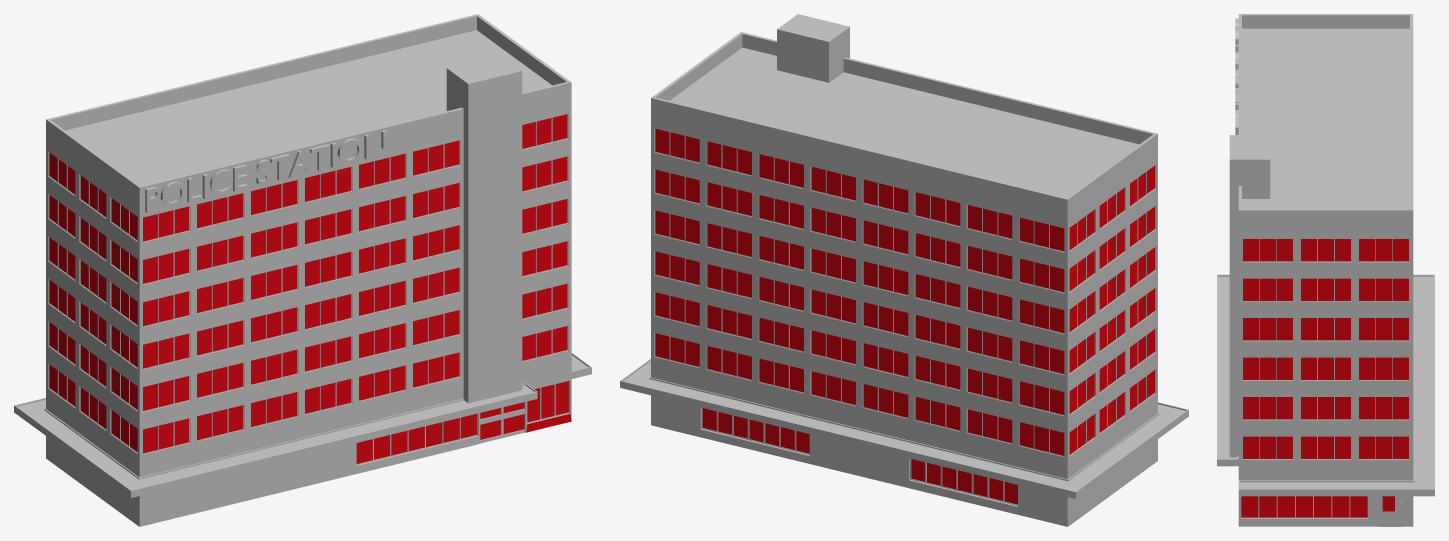
File: SM_infrastructure_buildings_015.gltf
3 views of the same model, side by side, from view 1: azimuth 30°, elevation 25°; view 2: azimuth 150°, elevation 25°; view 3: azimuth 270°, elevation 25° (orthographic). The views are drawn at different scales.
Visible parts, largest first — view 1: infrastructure_buildings_015; view 2: infrastructure_buildings_015; view 3: infrastructure_buildings_015.
Part boxes in pixels (<box>): infrastructure_buildings_015: <box>14,14,591,526</box>; infrastructure_buildings_015: <box>620,14,1188,526</box>; infrastructure_buildings_015: <box>1217,14,1434,526</box>.
Bounding box in the file's own units: 35 × 26 × 15.
